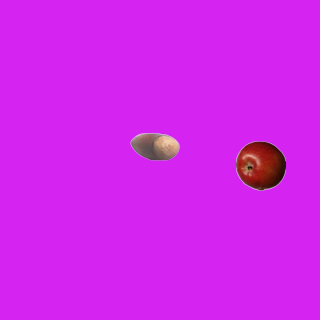Apple Braeburn: (235, 140, 285, 190)
Hazelnut: (129, 121, 179, 171)
